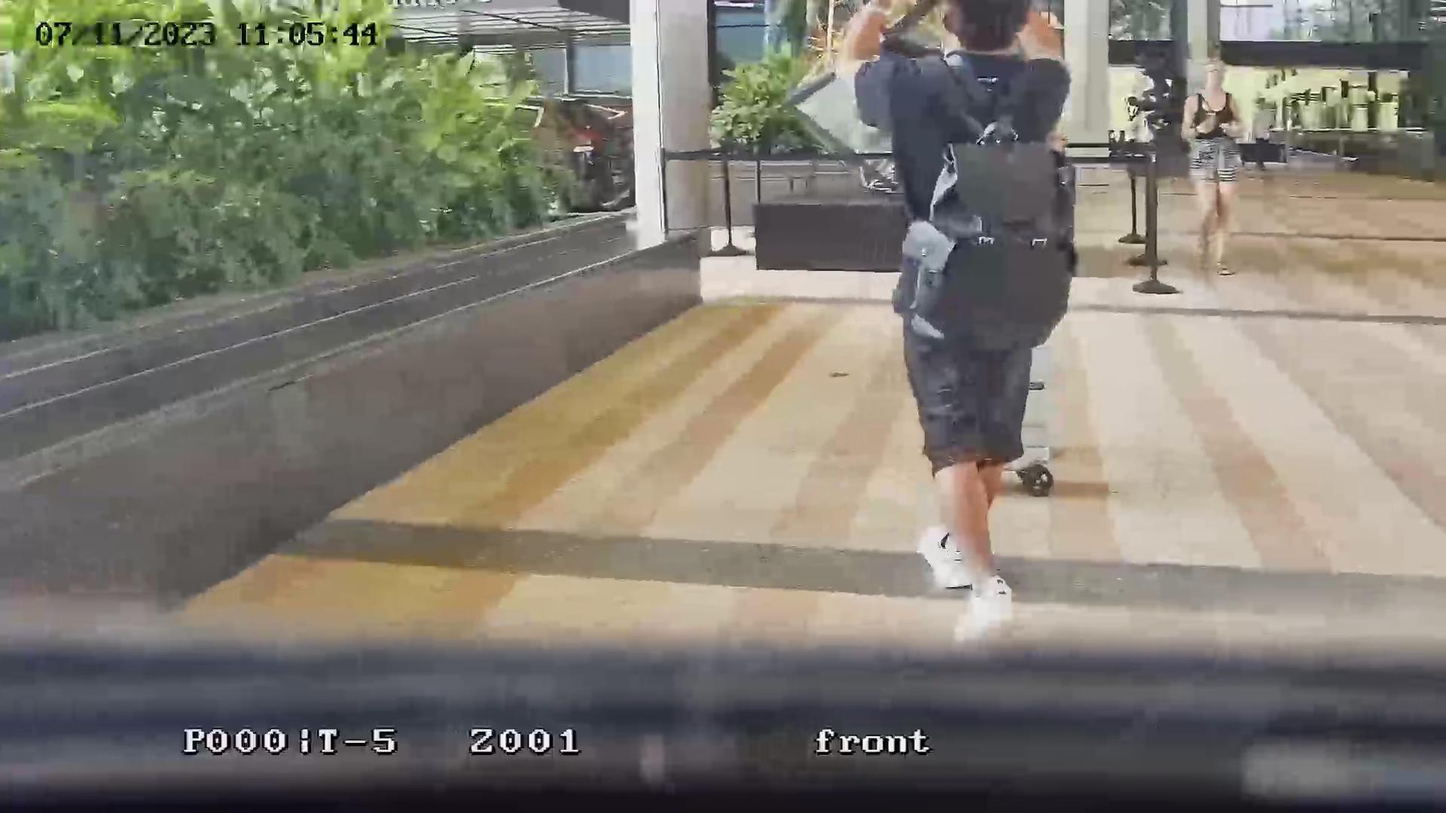person: (847, 0, 1078, 629), (1181, 56, 1245, 275)
